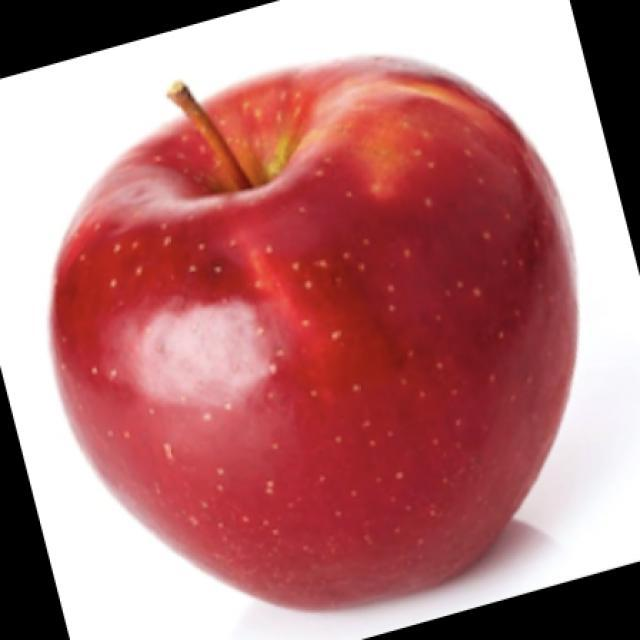Fresh Apple: (50, 58, 568, 620)
